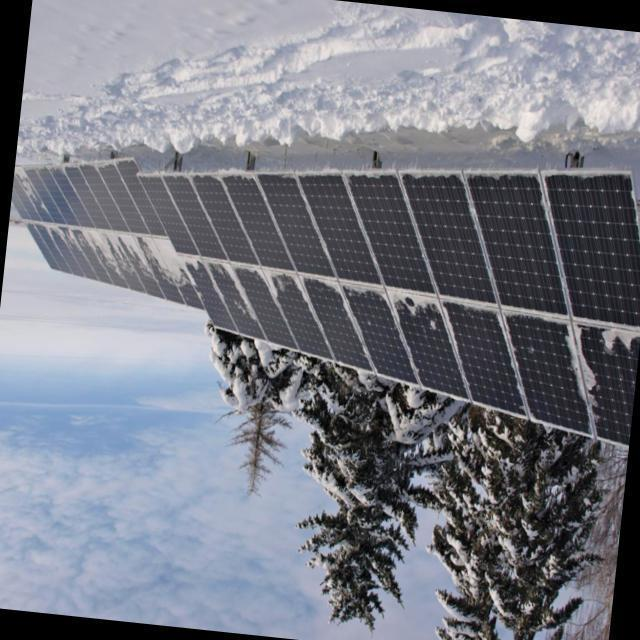Anomaly Solar Panel: (464, 171, 594, 438), (400, 172, 529, 419), (347, 171, 470, 402), (541, 172, 639, 448), (298, 174, 421, 388), (255, 173, 375, 375), (218, 175, 335, 362), (188, 175, 300, 352), (161, 175, 268, 343), (140, 176, 238, 334), (114, 160, 205, 311), (95, 163, 185, 305), (12, 168, 112, 284), (80, 164, 165, 299), (63, 166, 146, 293), (47, 167, 129, 288)
Snow: (38, 212, 640, 364)
